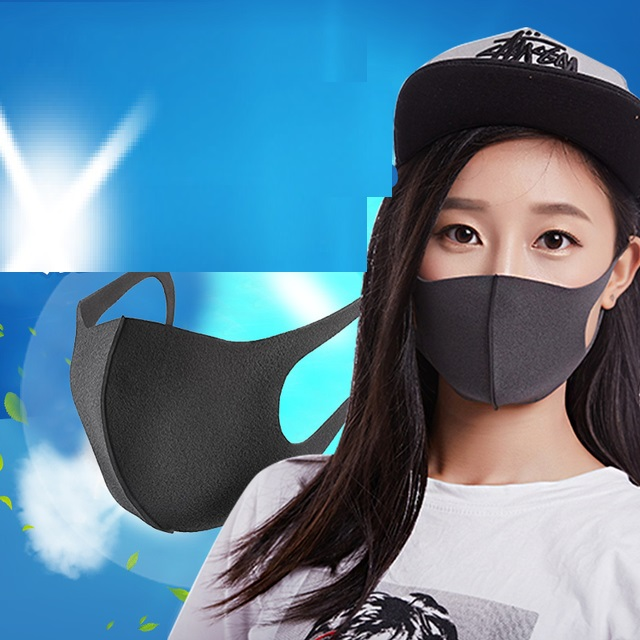face_mask: (413, 125, 615, 398)
